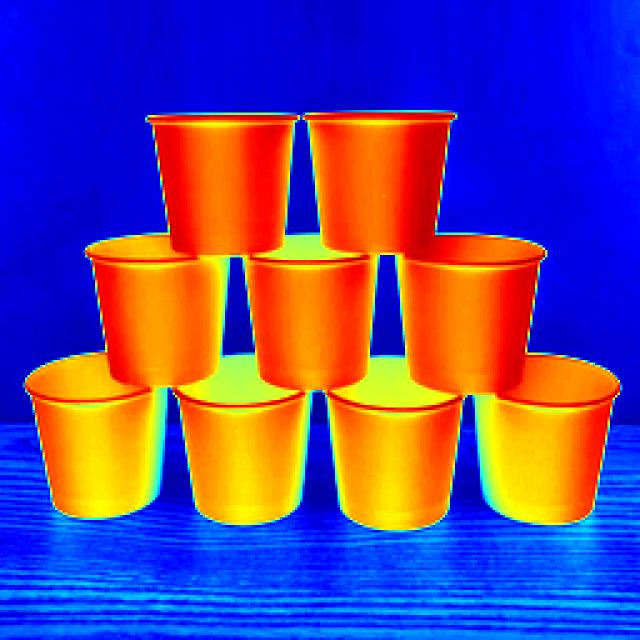Paper Cups: (76, 232, 237, 394), (303, 102, 462, 265), (398, 221, 533, 396), (142, 101, 306, 240), (328, 369, 447, 545), (36, 352, 164, 515), (247, 239, 374, 393), (179, 360, 299, 520), (486, 359, 590, 533)
